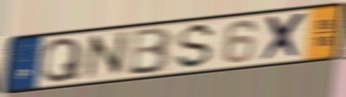6: (221, 18, 259, 66)
B: (125, 25, 174, 77)
N: (83, 29, 129, 83)
Q: (40, 36, 85, 84)
S: (172, 21, 218, 71)
X: (260, 10, 310, 63)
